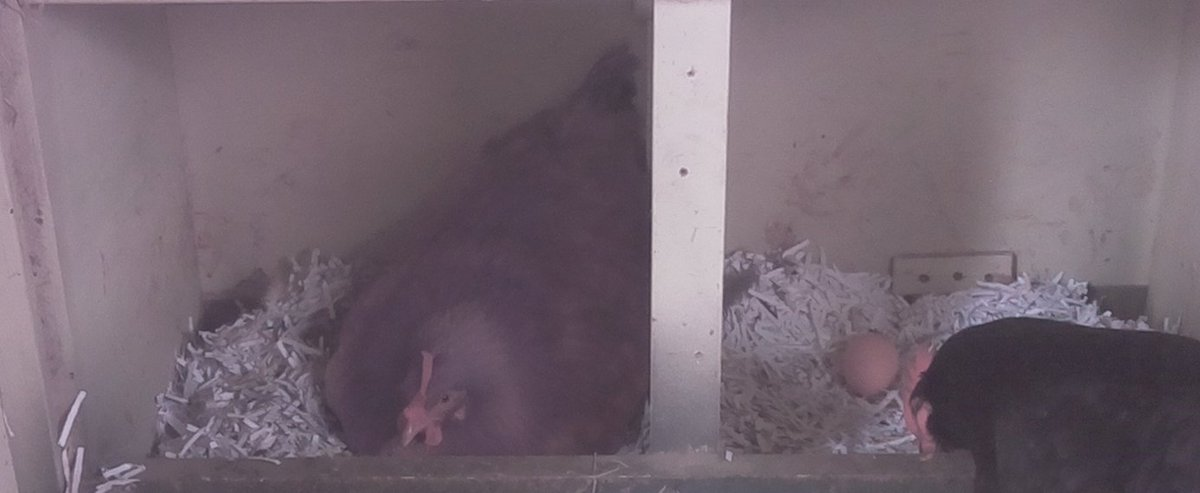egg: (836, 327, 904, 406)
hen: (322, 55, 649, 451), (894, 314, 1196, 493)
